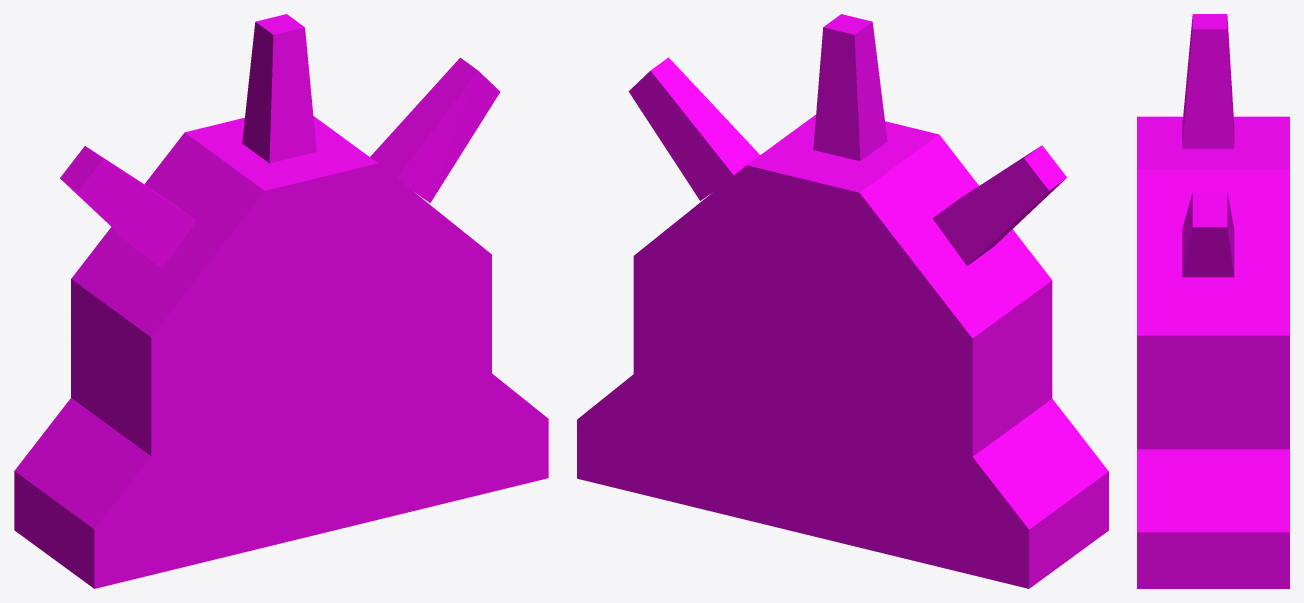
File: cave lever.obj
3 renders of one model, left to right at view 1: azimuth 30°, elevation 25°; view 2: azimuth 150°, elevation 25°; view 3: azimuth 270°, elevation 25°, orthographic. The views are drawn at different scales.
Parts seen in each view (by area): view 1: cave lever_back; view 2: cave lever_back; view 3: cave lever_back.
Part boxes in pixels (x1,y1,x2,y2): cave lever_back: (14, 14, 548, 588); cave lever_back: (577, 14, 1108, 588); cave lever_back: (1137, 14, 1289, 588).
Bounding box in the file's own units: 1.44 × 1.46 × 0.44.
